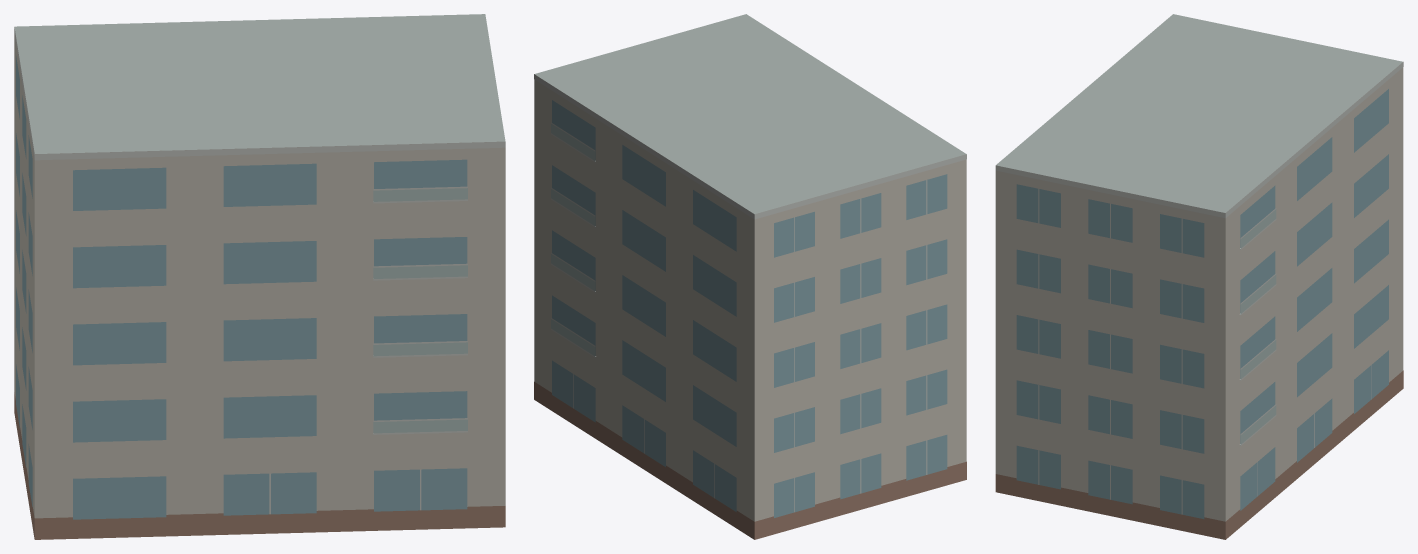
The model's file is survey-upis-32941952.glb.
3 views of the same model, side by side, from view 1: azimuth 30°, elevation 25°; view 2: azimuth 150°, elevation 25°; view 3: azimuth 270°, elevation 25° (orthographic). The views are drawn at different scales.
Visible parts, largest first — view 1: survey-upis-32941952.tmp; view 2: survey-upis-32941952.tmp; view 3: survey-upis-32941952.tmp.
Part boxes in pixels (box(x1,y1,x2,y2)): survey-upis-32941952.tmp: box(14, 14, 505, 539); survey-upis-32941952.tmp: box(534, 14, 966, 539); survey-upis-32941952.tmp: box(995, 14, 1403, 539).
Bounding box in the file's own units: 19.93 × 15.25 × 17.25.
